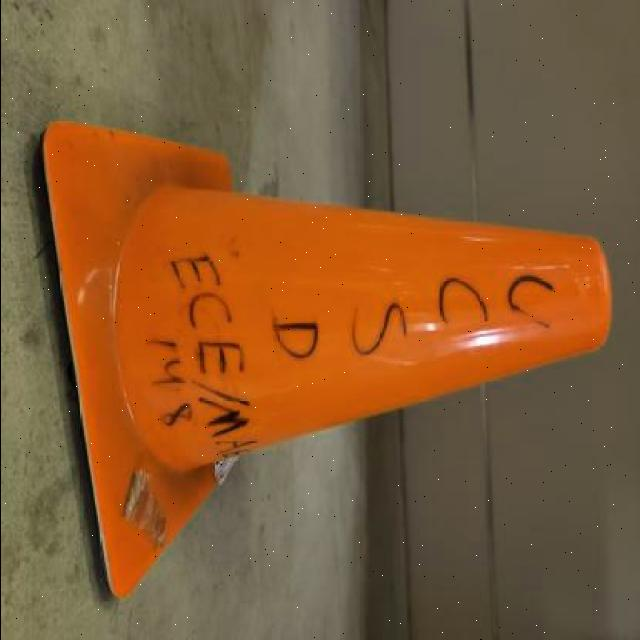traffic cone: (31, 96, 622, 614)
